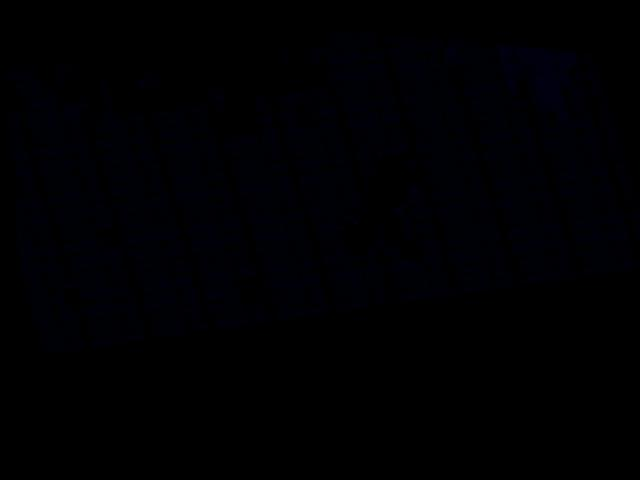iha: (319, 138, 432, 255)
